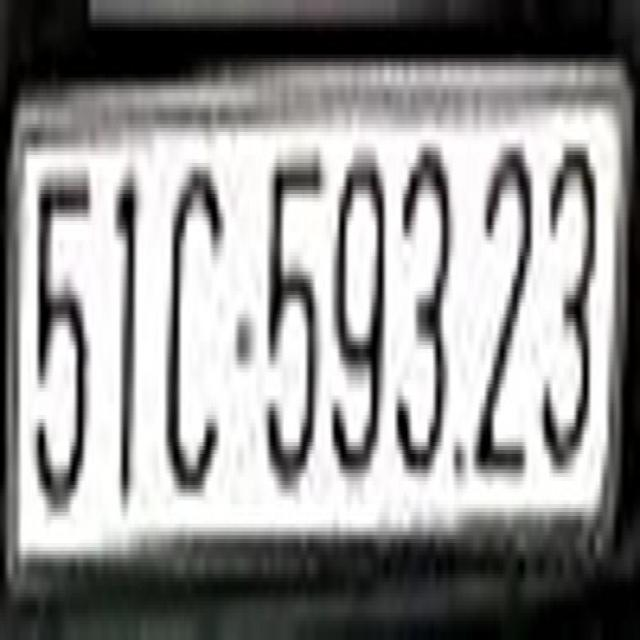1: (110, 175, 141, 528)
2: (475, 155, 537, 493)
3: (543, 112, 594, 485), (396, 128, 447, 485)
5: (33, 163, 93, 535), (265, 140, 321, 508)
9: (330, 136, 388, 488)
C: (160, 151, 224, 512)
